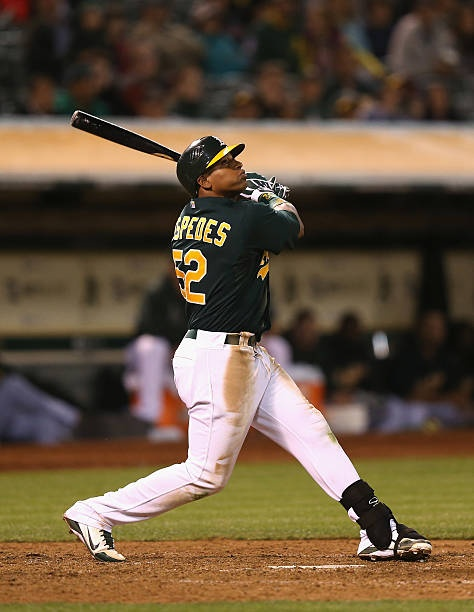bita: (69, 101, 180, 156)
